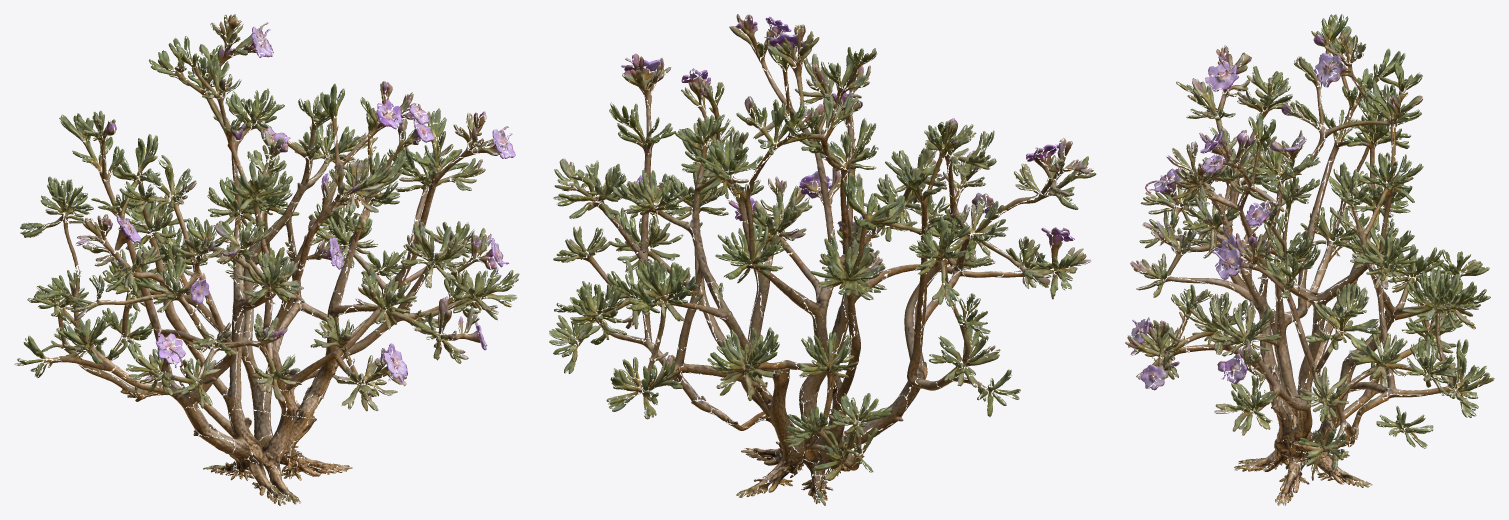
Rendered from shua.glb.
The picture shows the model from 3 angles, left to right: view 1: azimuth 30°, elevation 25°; view 2: azimuth 150°, elevation 25°; view 3: azimuth 270°, elevation 25°; orthographic projection. The views are drawn at different scales.
Visible parts, largest first — view 1: tripo_node_02d932fa-3dac-47d3-a8ab-f67854e06bb9; view 2: tripo_node_02d932fa-3dac-47d3-a8ab-f67854e06bb9; view 3: tripo_node_02d932fa-3dac-47d3-a8ab-f67854e06bb9.
Boxes of the visible parts, x1,y1,x2,y2 form: tripo_node_02d932fa-3dac-47d3-a8ab-f67854e06bb9: (14, 14, 519, 505); tripo_node_02d932fa-3dac-47d3-a8ab-f67854e06bb9: (549, 14, 1096, 505); tripo_node_02d932fa-3dac-47d3-a8ab-f67854e06bb9: (1125, 14, 1494, 505).
Size of the model in its own units: 0.9794 by 0.9188 by 0.7079.
1 material, 1 textured.
